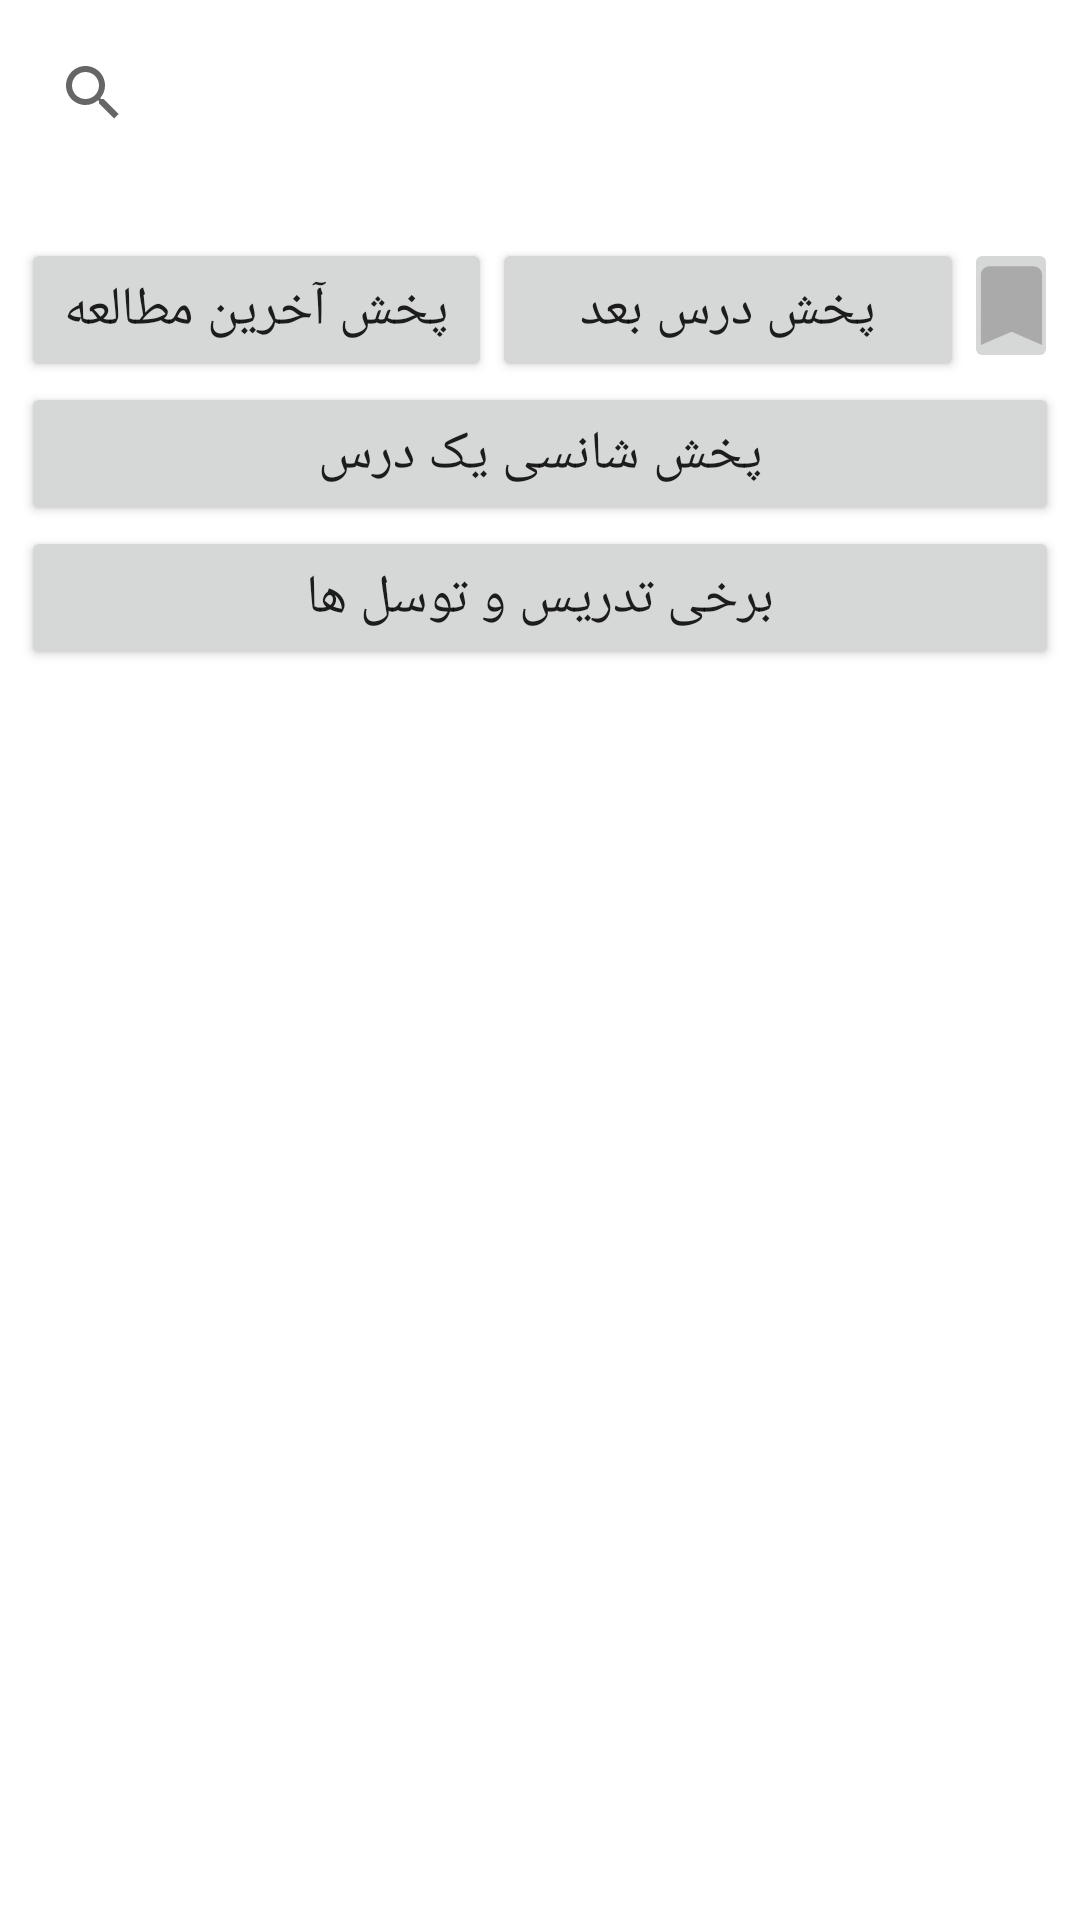

Screen size 1080*1920. Icon name, then its box in pixels as {"x1": x1, "y1": y1, "x2": x2, "y2": y2}:
bookmark: {"x1": 976, "y1": 256, "x2": 1046, "y2": 355}
